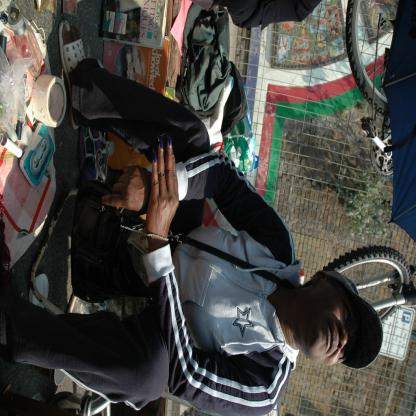book: (99, 36, 169, 92), (102, 1, 168, 51)
